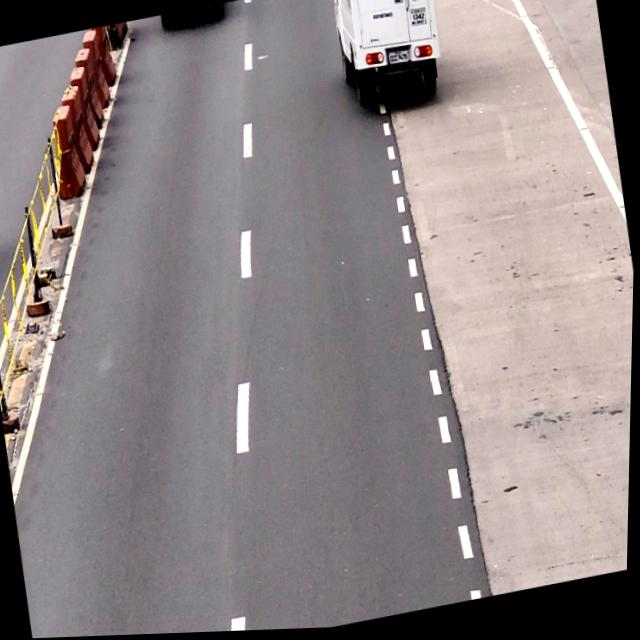Car: (327, 0, 446, 106)
License-Plate: (386, 50, 413, 70)
